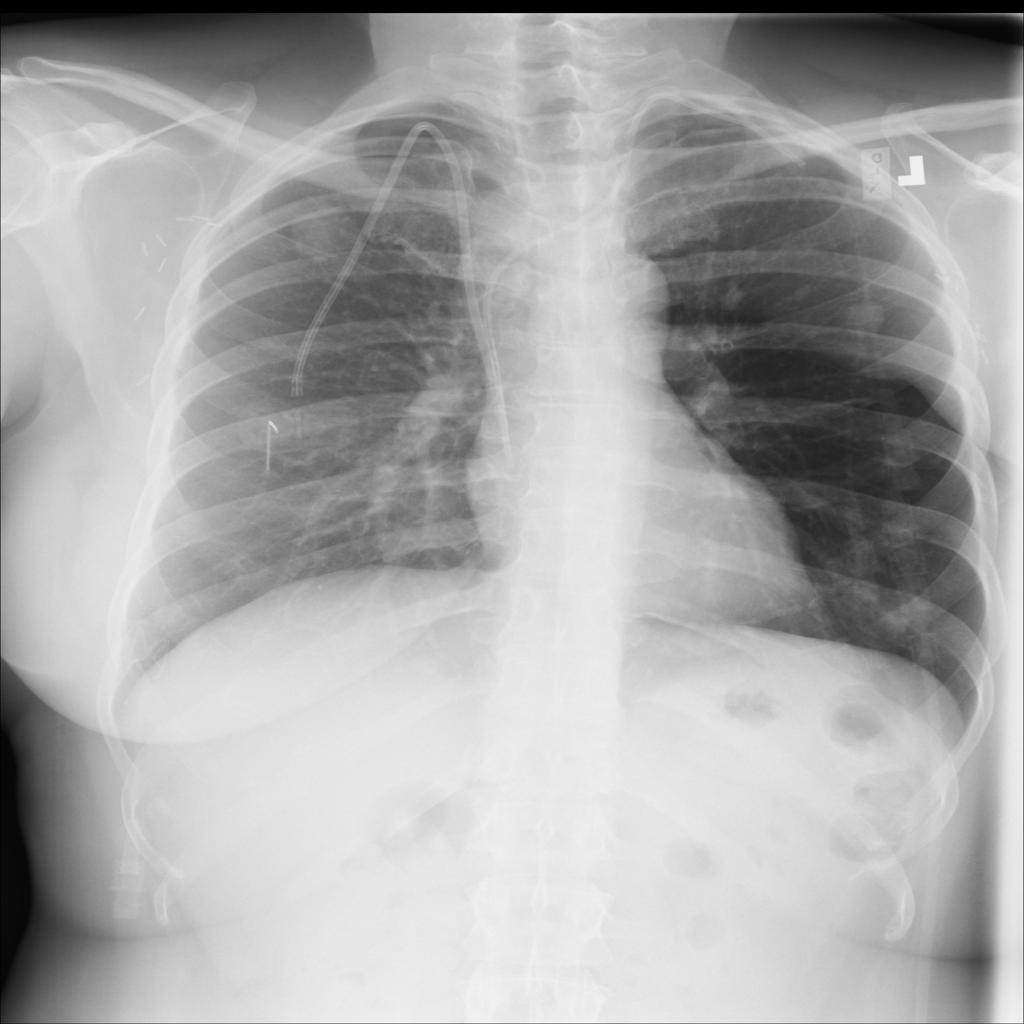nodule: (275, 196, 367, 268), (218, 389, 302, 455), (824, 286, 903, 347), (866, 440, 943, 502), (706, 272, 761, 317)
